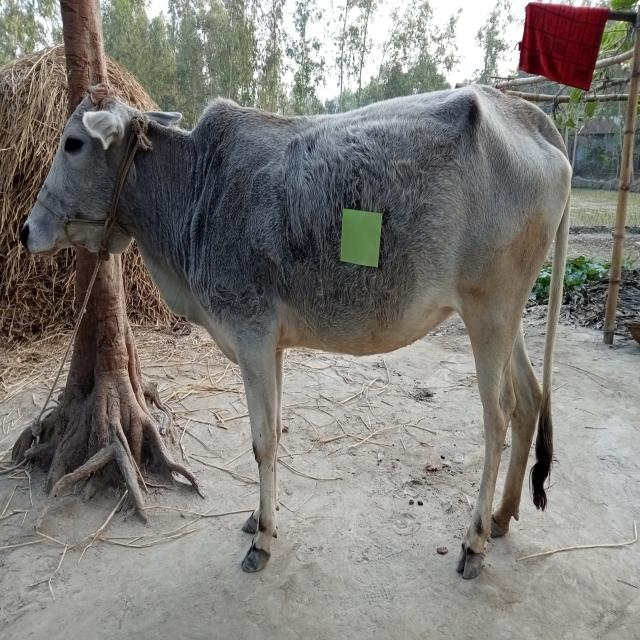badan_sapi: (231, 85, 534, 367)
sapi: (13, 65, 574, 584)
